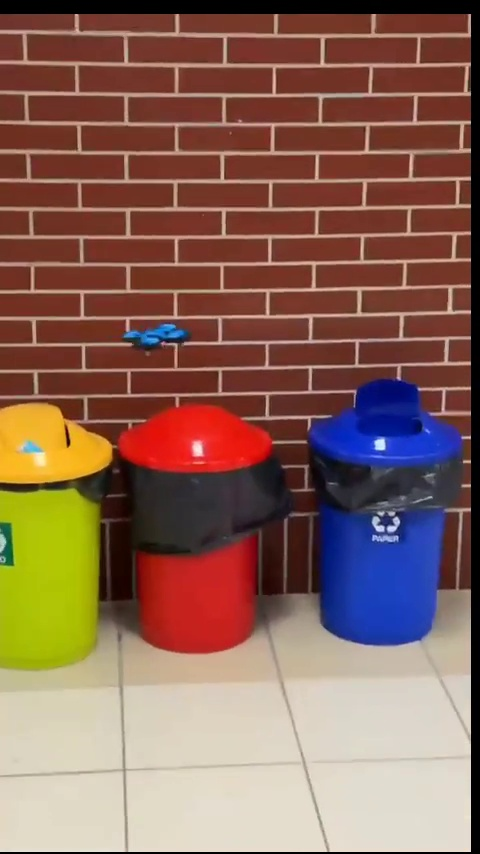drone: (126, 320, 192, 355)
